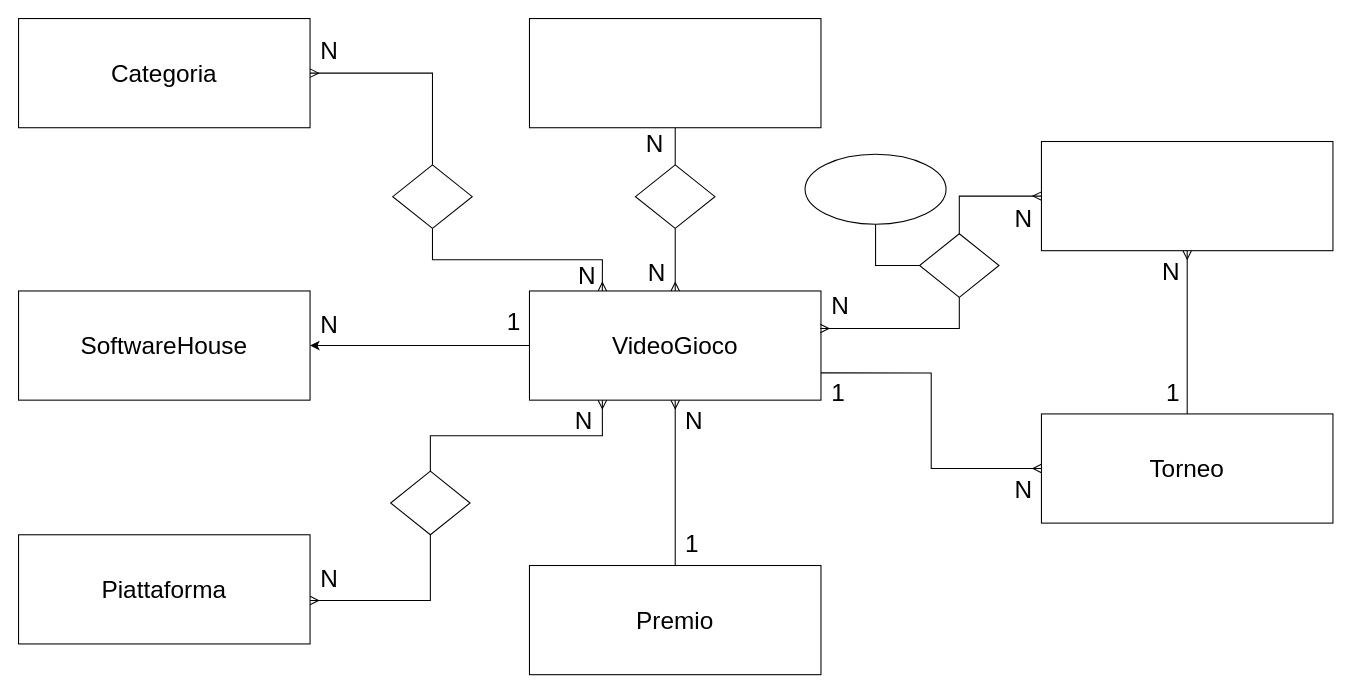
Image size: 1351x693. Some labels were removed from this diagram. The shapes that lost their labels are listed below. From the top down, each one's box as (x1, y1, x2, y2) in pixels, then its label:
(528, 17, 821, 128): Classificazione
(804, 153, 946, 224): recensione rating
(1040, 140, 1333, 251): Giocatore
